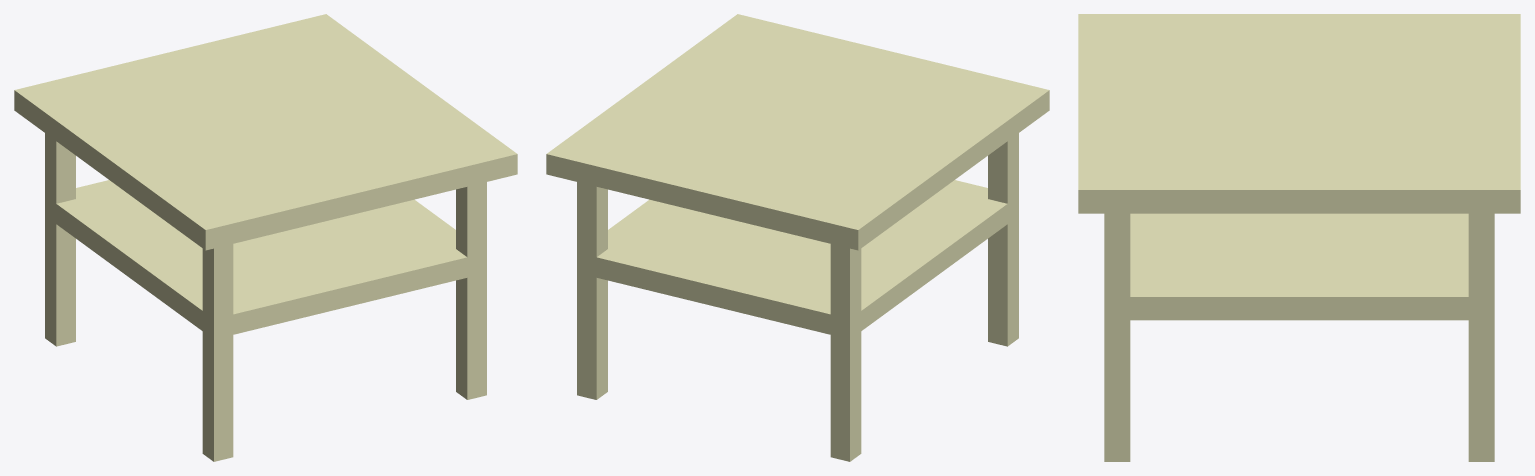
Rendered from mini_table_0_lev1_lev3.glb.
3 renders of one model, left to right at view 1: azimuth 30°, elevation 25°; view 2: azimuth 150°, elevation 25°; view 3: azimuth 270°, elevation 25°, orthographic. The views are drawn at different scales.
Visible parts, largest first — view 1: mini_table_0_lev1_lev3; view 2: mini_table_0_lev1_lev3; view 3: mini_table_0_lev1_lev3.
Part boxes in pixels (x1,y1,x2,y2): mini_table_0_lev1_lev3: (14,14,517,461); mini_table_0_lev1_lev3: (546,14,1049,461); mini_table_0_lev1_lev3: (1078,14,1520,461).
Size of the model in its own units: 1.81 by 1.36 by 1.92.
Materials: 1 (1 with a texture image).
